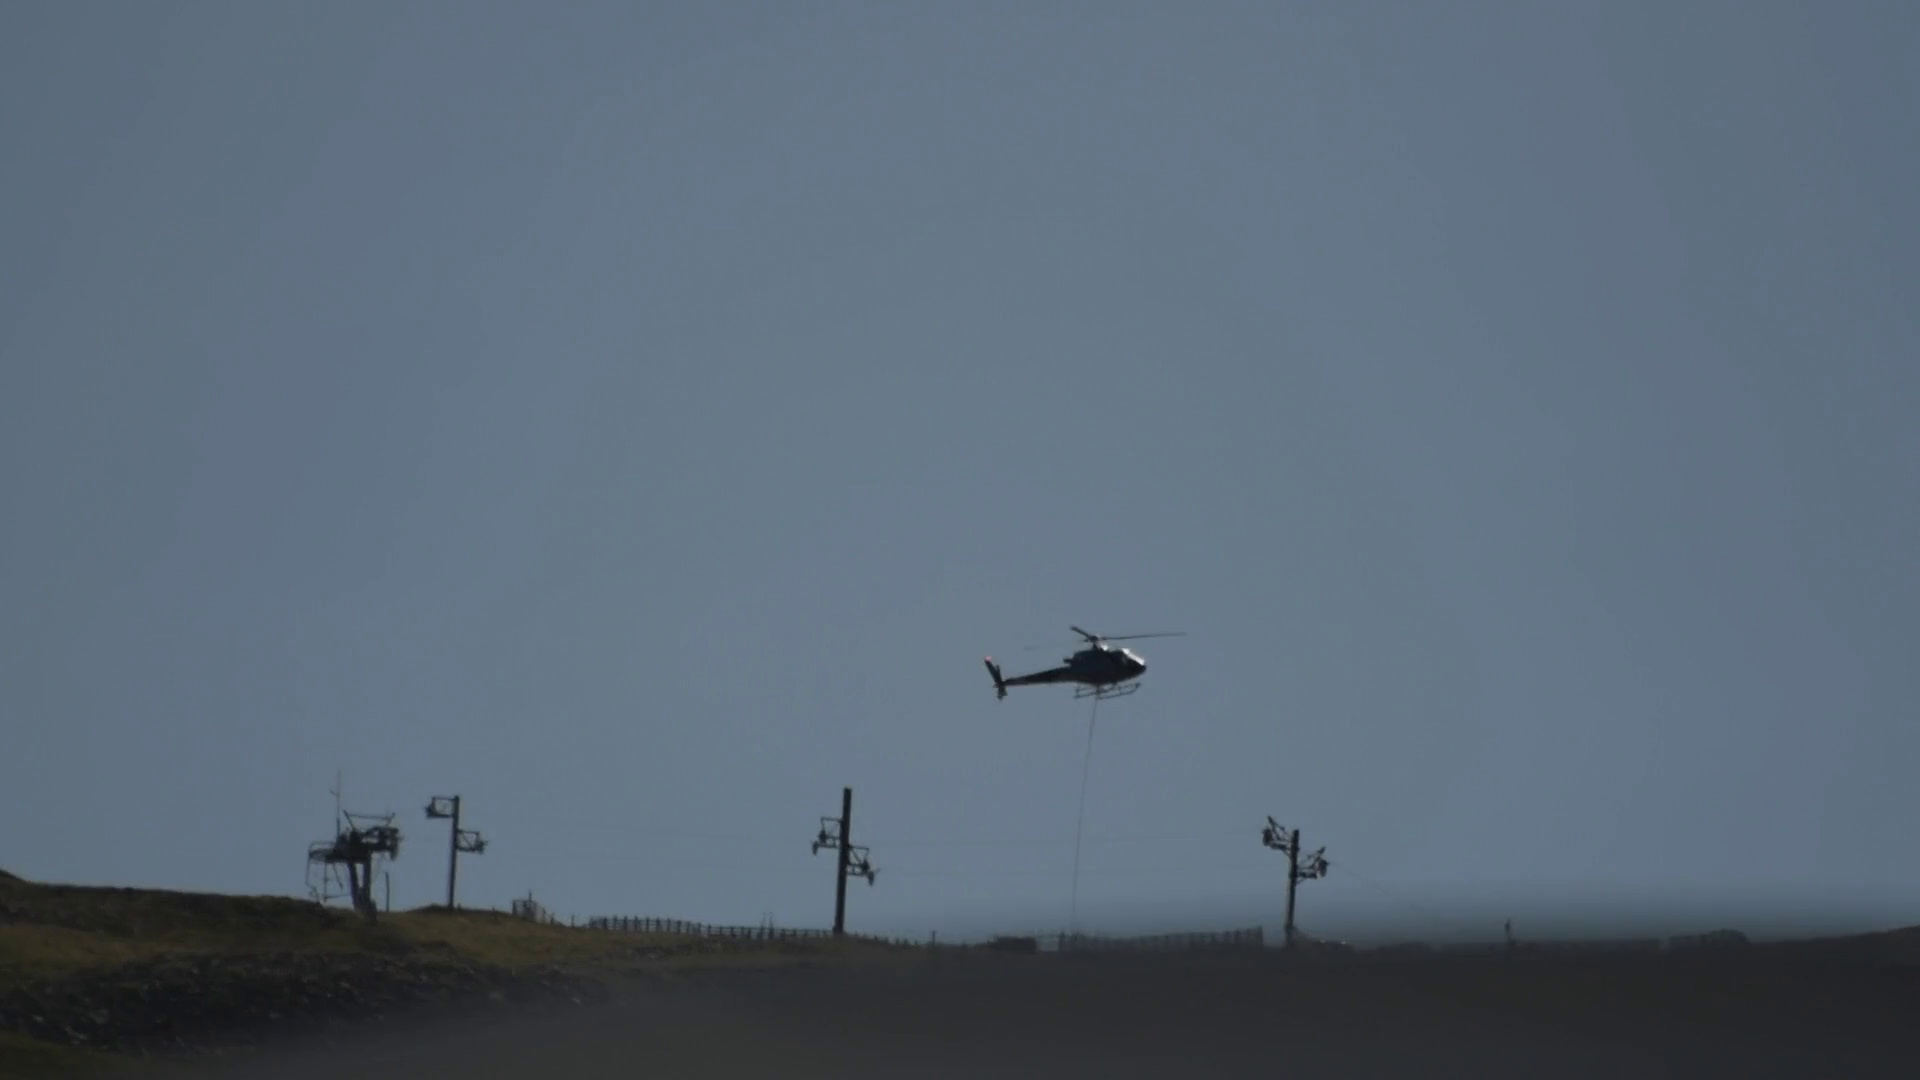heli: (981, 626, 1185, 702)
